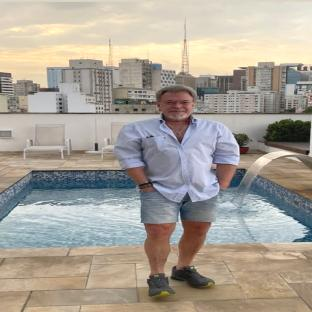Human: (115, 86, 239, 297)
